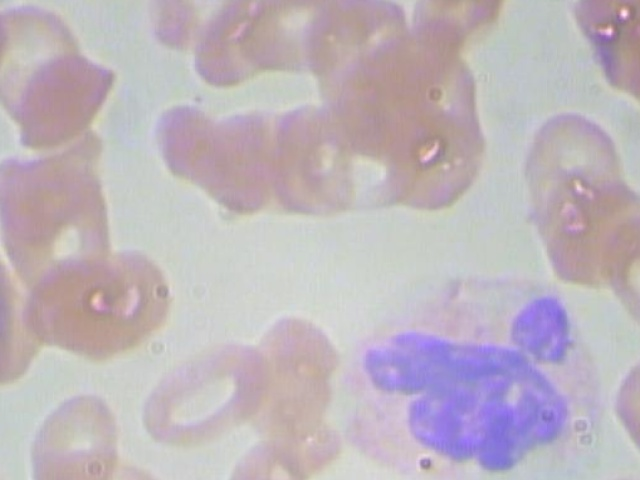RBC: (513, 105, 632, 257), (232, 309, 349, 447), (0, 142, 115, 282), (373, 81, 491, 213), (136, 332, 263, 451), (58, 235, 174, 362), (185, 0, 332, 93), (7, 46, 119, 148), (16, 250, 127, 352), (22, 381, 134, 480), (0, 0, 89, 118), (200, 102, 285, 222), (146, 95, 226, 199), (132, 0, 263, 56), (573, 0, 640, 88), (0, 0, 13, 82), (393, 0, 530, 2)
WBC: (337, 275, 613, 480)
